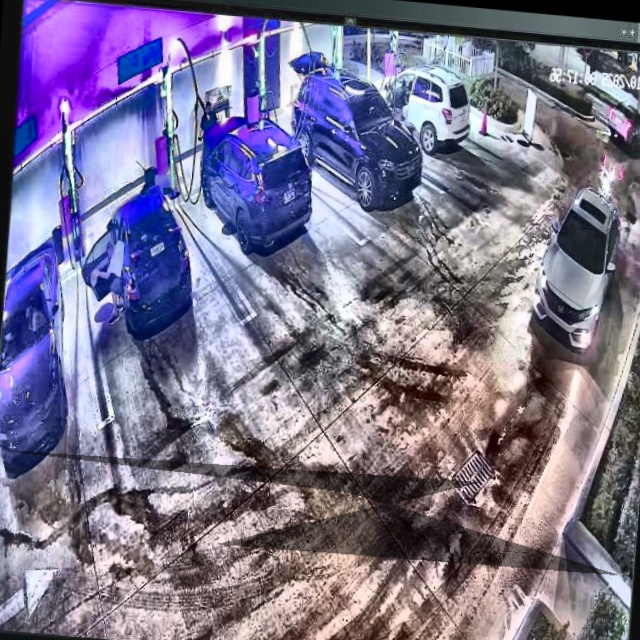Car: (280, 49, 430, 209), (76, 174, 204, 331), (197, 99, 317, 258), (362, 53, 479, 148)
